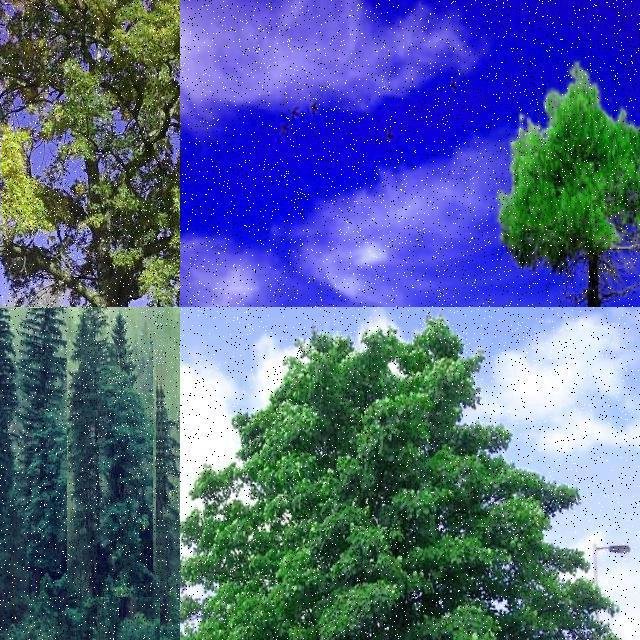tree: (180, 308, 612, 640), (0, 0, 180, 308), (496, 55, 640, 307), (67, 307, 153, 597), (13, 307, 67, 517), (130, 455, 180, 640), (152, 380, 180, 602), (156, 307, 180, 543), (156, 341, 180, 575), (156, 307, 180, 539), (160, 340, 180, 612), (148, 487, 180, 640), (156, 307, 180, 499), (160, 322, 180, 526), (0, 307, 17, 539), (160, 308, 180, 504), (160, 520, 180, 640), (164, 348, 180, 492), (162, 558, 180, 640), (168, 337, 180, 457), (162, 564, 180, 640), (168, 371, 180, 454), (168, 378, 180, 450), (170, 380, 180, 456)
